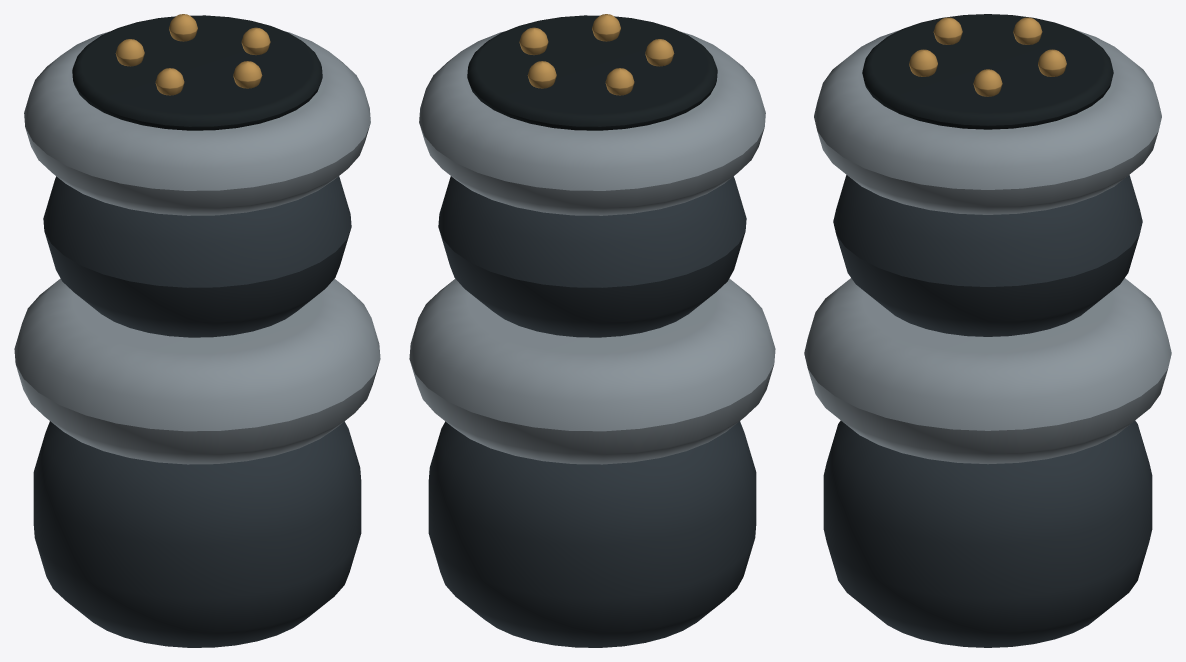
The model's file is ZH_PROP_UTILITY_CableCoupler.fbx.
3 views of the same model, side by side, from view 1: azimuth 30°, elevation 25°; view 2: azimuth 150°, elevation 25°; view 3: azimuth 270°, elevation 25° (orthographic).
Parts seen in each view (by area): view 1: Connector | collar.024, Connector | collar.025, Connector | collar.026, Connector | collar.027, Connector | socket.006, Connector | contact.031, Connector | contact.033, Connector | contact.034, Connector | contact.030, Connector | contact.032; view 2: Connector | collar.024, Connector | collar.025, Connector | collar.026, Connector | collar.027, Connector | socket.006, Connector | contact.034, Connector | contact.032, Connector | contact.031, Connector | contact.030, Connector | contact.033; view 3: Connector | collar.024, Connector | collar.025, Connector | collar.026, Connector | collar.027, Connector | socket.006, Connector | contact.030, Connector | contact.031, Connector | contact.034, Connector | contact.032, Connector | contact.033.
Part boxes in pixels (x1,y1,x2,y2): Connector | collar.024: (33,421,361,647); Connector | collar.025: (14,278,380,464); Connector | collar.026: (43,176,351,337); Connector | collar.027: (24,31,370,215); Connector | socket.006: (72,15,322,130); Connector | contact.031: (169,14,197,41); Connector | contact.033: (155,68,184,95); Connector | contact.034: (233,61,262,88); Connector | contact.030: (241,27,270,55); Connector | contact.032: (115,39,144,66); Connector | collar.024: (428,421,756,647); Connector | collar.025: (409,278,775,464); Connector | collar.026: (438,176,746,337); Connector | collar.027: (419,31,765,215); Connector | socket.006: (467,15,717,130); Connector | contact.034: (592,14,620,41); Connector | contact.032: (605,68,634,95); Connector | contact.031: (527,61,556,88); Connector | contact.030: (519,27,548,55); Connector | contact.033: (645,39,674,66); Connector | collar.024: (823,420,1152,647); Connector | collar.025: (804,278,1171,464); Connector | collar.026: (833,175,1142,336); Connector | collar.027: (814,30,1161,214); Connector | socket.006: (862,14,1113,129); Connector | contact.030: (973,69,1002,96); Connector | contact.031: (1038,49,1066,76); Connector | contact.034: (909,49,937,76); Connector | contact.032: (1013,17,1042,44); Connector | contact.033: (933,17,962,44).
Size of the model in its own units: 0.038 by 0.0645 by 0.038.
